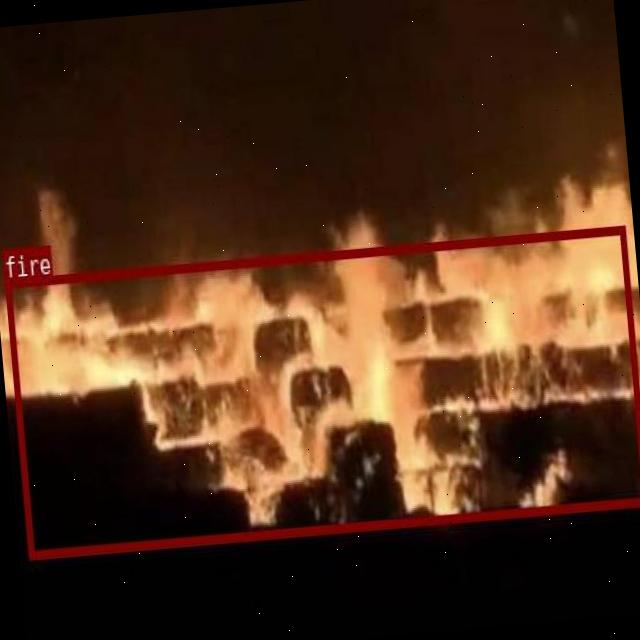fire: (4, 225, 640, 558)
